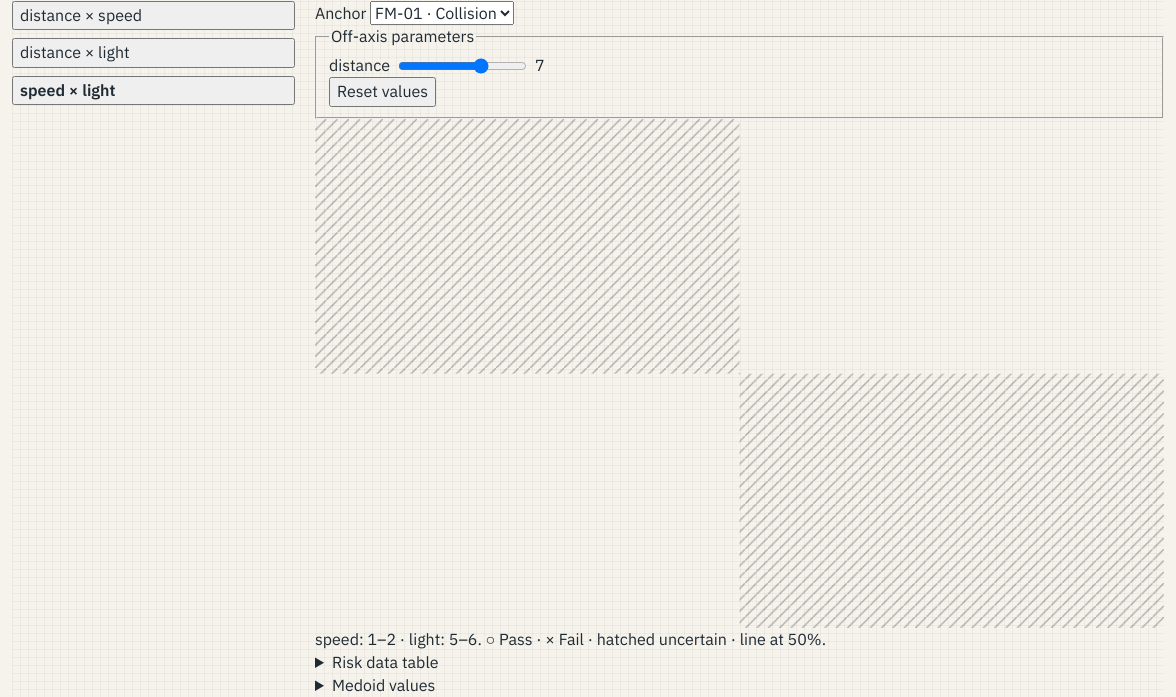
Test case: restores custom anchor values and shows the queued probe in Console after its live event
The image size is (1176, 697).
(page scrolled)
Expected: the slider labelled "distance" holds "7", 398,58 -> 527,74
Click the heading "Risk data table": (385, 662) 332,652 -> 438,672
(page scrolled)
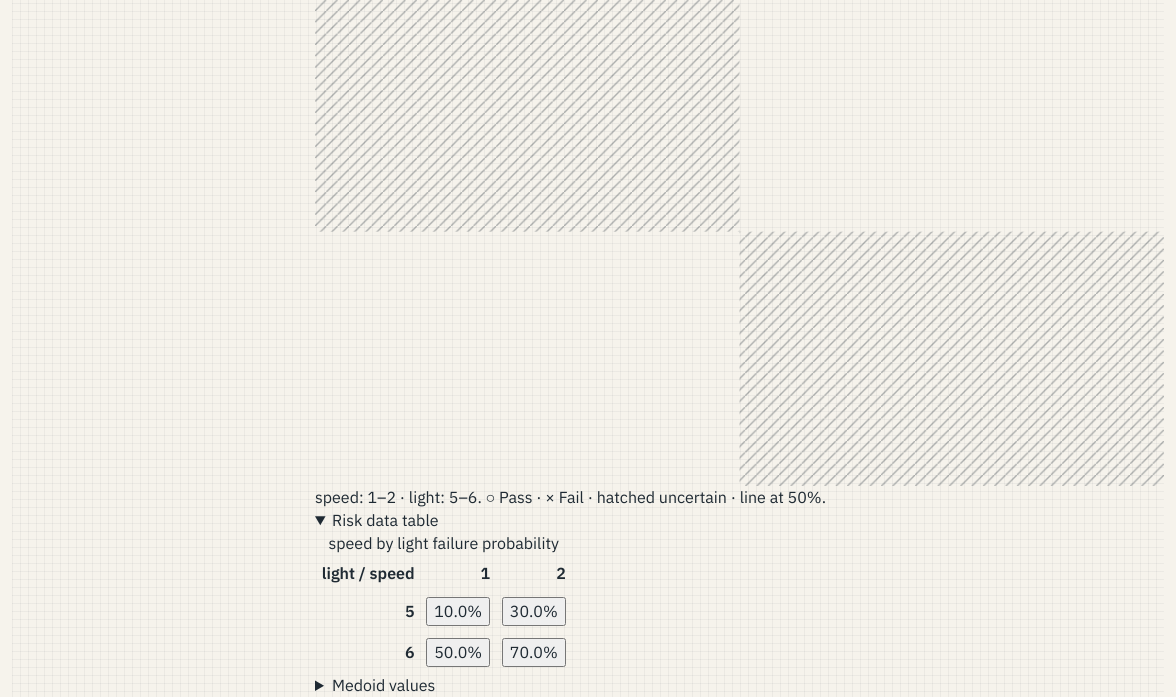
Click the button named "Probe speed 2, light 6": (534, 652) 502,638 -> 566,667
(page scrolled)
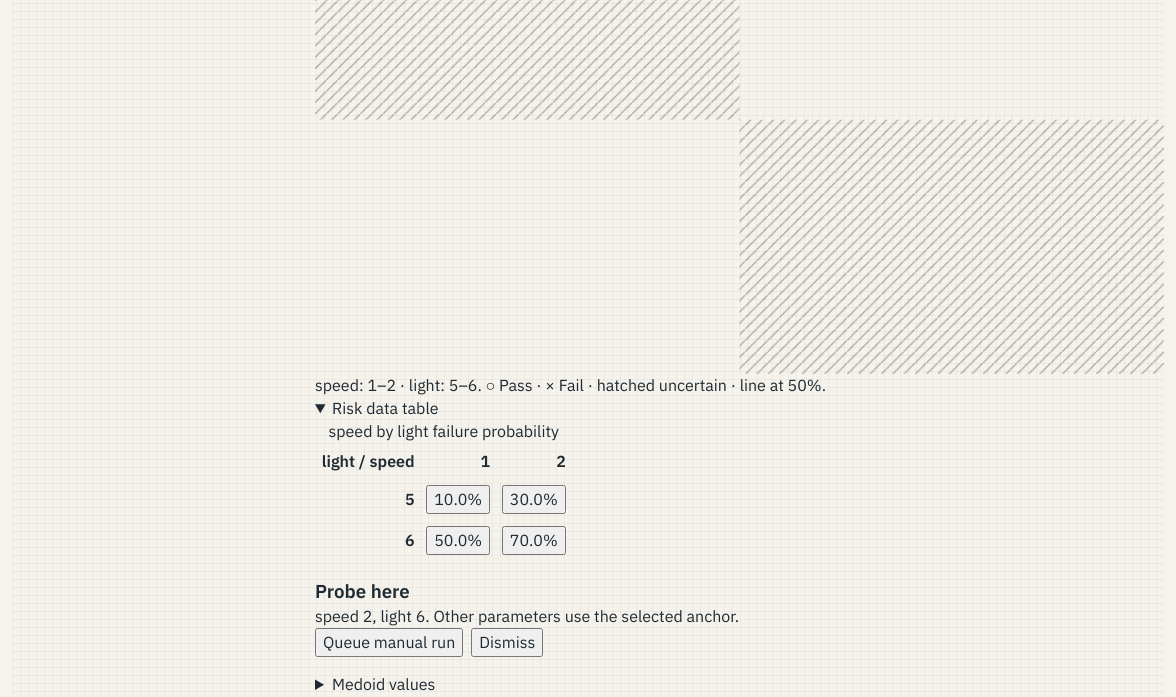
Click the button "Queue manual run": (389, 643) 315,628 -> 463,657
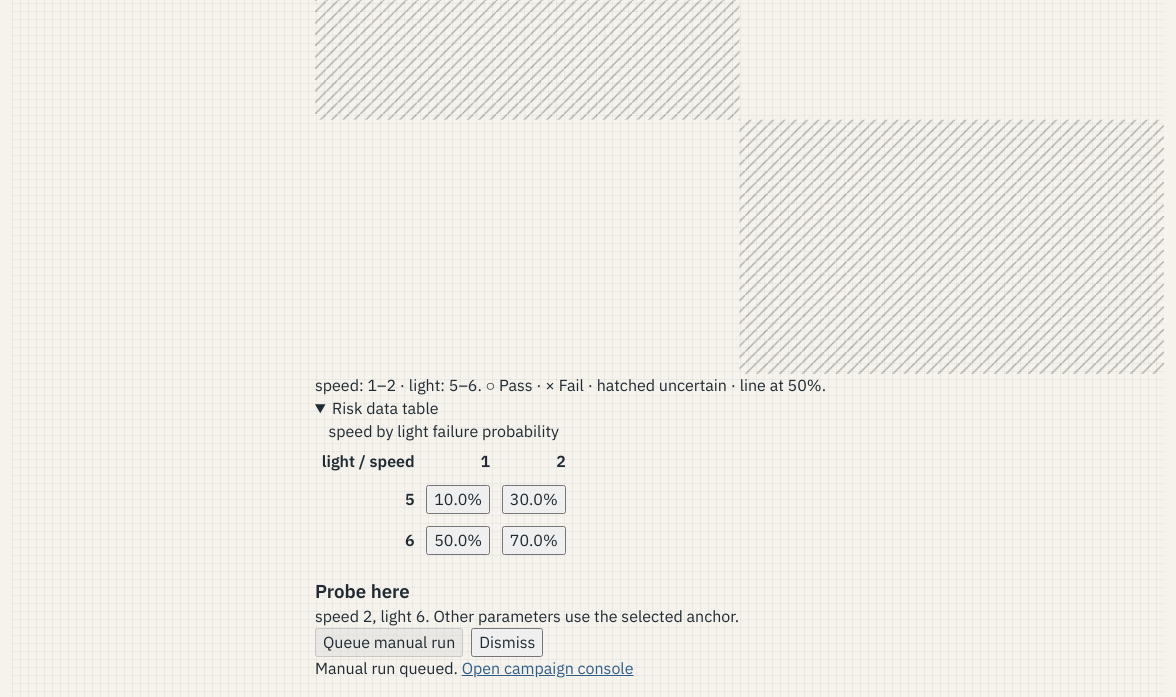
Click the link "Open campaign console": (548, 668) 462,658 -> 634,678
(page scrolled)
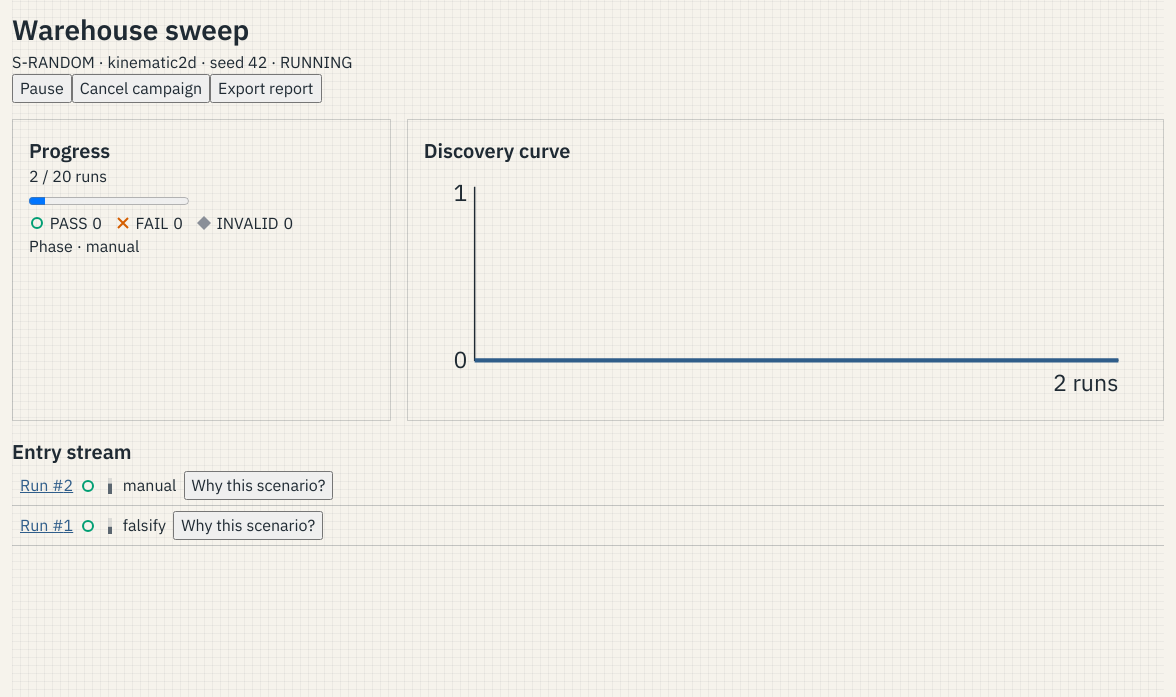
Expected: the link "Run #1" is shown, 20,514 -> 73,537
Expected: the text "2 / 20 runs" is shown, 29,166 -> 107,186
